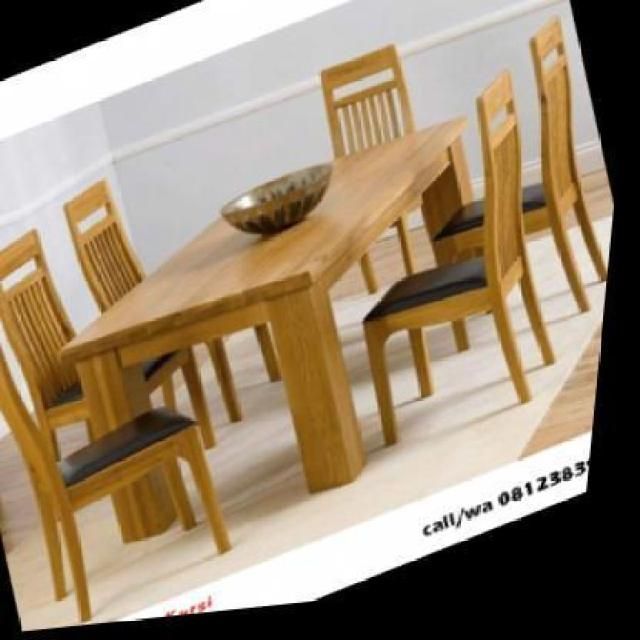tables: (55, 112, 471, 537)
